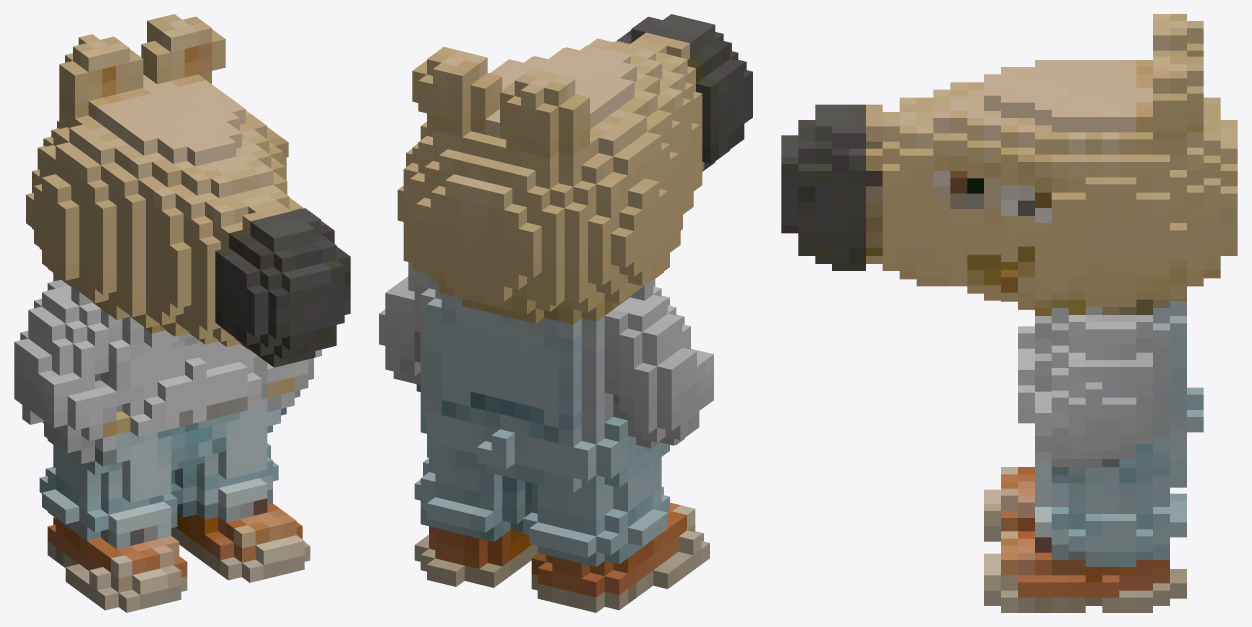
Rendered from chillguy_build.glb.
The picture shows the model from 3 angles, left to right: view 1: azimuth 30°, elevation 25°; view 2: azimuth 150°, elevation 25°; view 3: azimuth 270°, elevation 25°; orthographic projection. The views are drawn at different scales.
Bounding box in the file's own units: 20 × 34 × 27.
